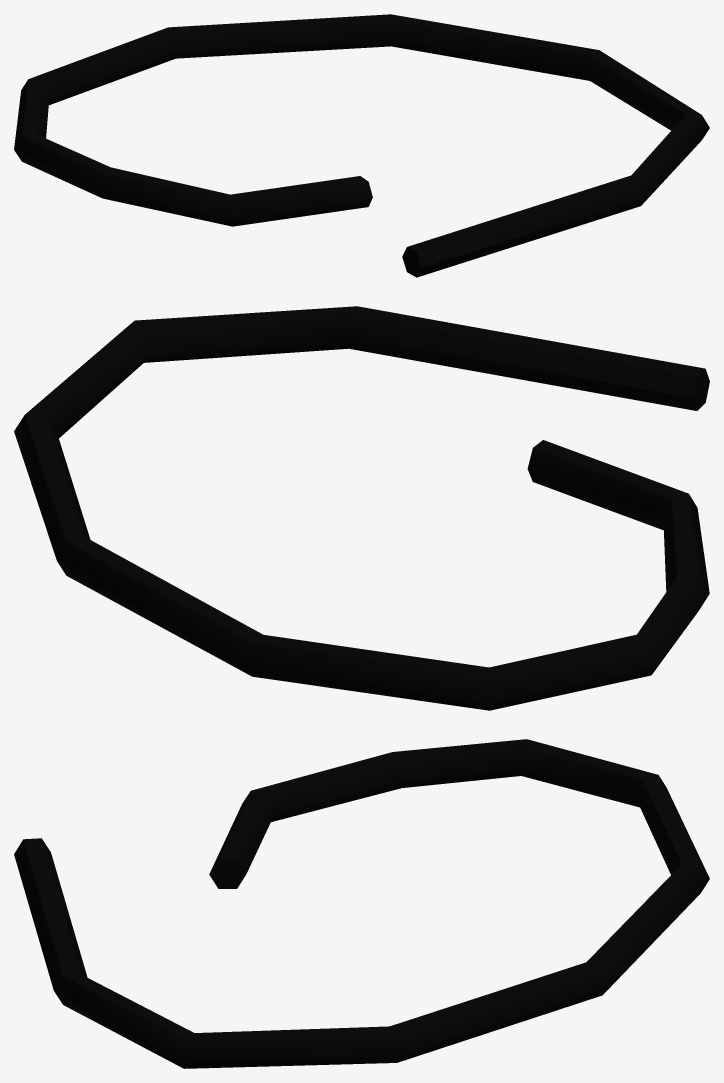
File: cableBlackSpiral.fbx
3 views of the same model, one above another, from view 1: azimuth 30°, elevation 25°; view 2: azimuth 150°, elevation 25°; view 3: azimuth 270°, elevation 25° (orthographic). The views are drawn at different scales.
Visible parts, largest first — view 1: cableBlackSpiral; view 2: cableBlackSpiral; view 3: cableBlackSpiral.
Part boxes in pixels (<box>): cableBlackSpiral: <box>14,14,709,277</box>; cableBlackSpiral: <box>14,306,709,710</box>; cableBlackSpiral: <box>14,739,709,1068</box>.
Bounding box in the file's own units: 38.99 × 1.73 × 37.31.
